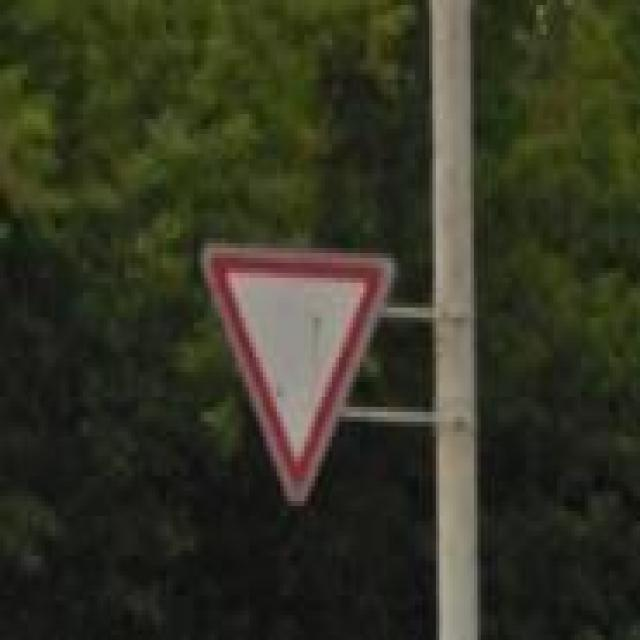traffic_sign: (200, 238, 398, 506)
